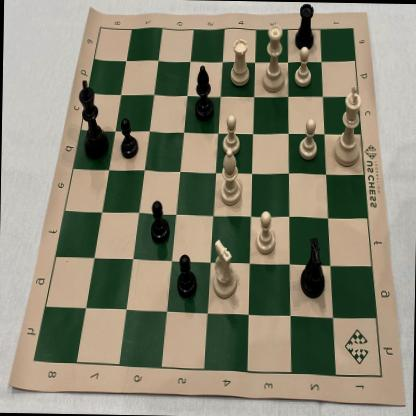black-bishop: (192, 63, 214, 124)
black-king: (74, 76, 110, 162)
black-knight: (294, 235, 328, 304)
black-pawn: (175, 248, 198, 300), (148, 196, 171, 246), (117, 113, 139, 161)
black-rook: (292, 2, 319, 54)
white-bishop: (217, 147, 247, 208)
white-king: (331, 81, 366, 170)
white-knight: (209, 234, 239, 302)
white-pawn: (290, 43, 318, 92), (254, 207, 278, 260), (296, 115, 319, 162), (220, 110, 244, 155)
white-queen: (259, 19, 287, 95)
white-rook: (226, 36, 252, 88)
